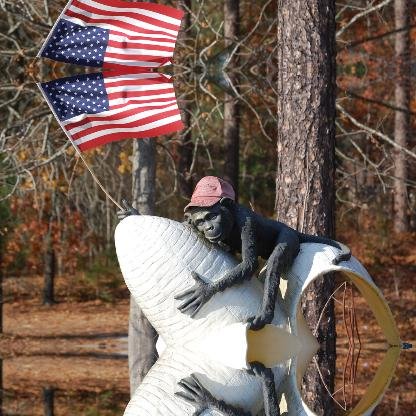Monkey: (116, 175, 352, 331), (116, 360, 353, 415)
